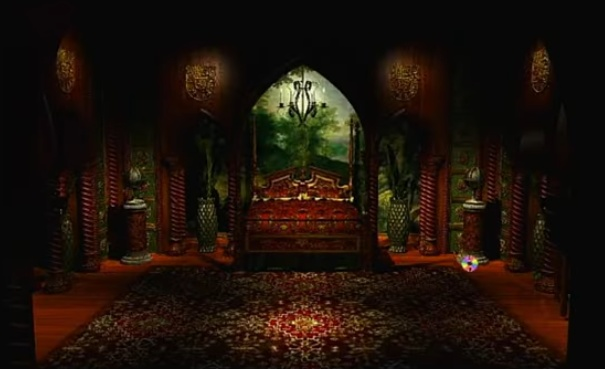Waiting: (454, 251, 481, 273)
